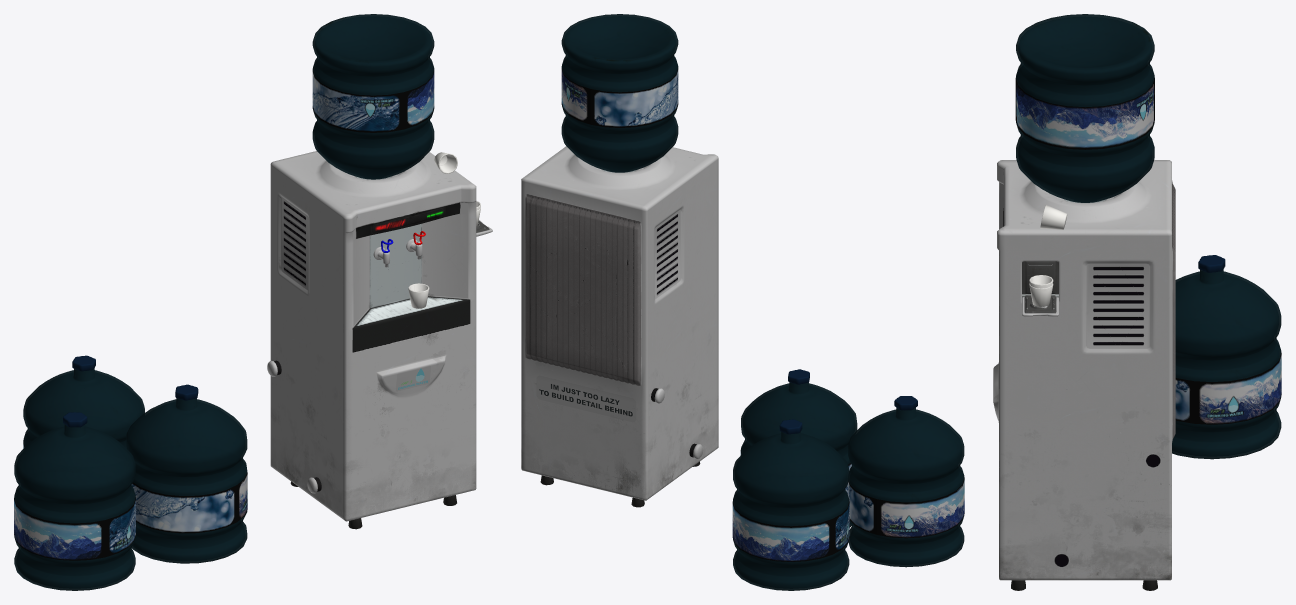
Rendered from 1779769742133-water_dispencer_-_pbr_-_game_ready.glb.
3 renders of one model, left to right at view 1: azimuth 30°, elevation 25°; view 2: azimuth 150°, elevation 25°; view 3: azimuth 270°, elevation 25°, orthographic. The views are drawn at different scales.
Visible parts, largest first — view 1: Object_4, Object_3, Object_2; view 2: Object_4, Object_3, Object_2; view 3: Object_4, Object_3, Object_2.
Boxes of the visible parts, box(x1,y1,x2,y2) form: Object_4: box(267, 151, 492, 529); Object_3: box(14, 14, 434, 590); Object_2: box(14, 70, 434, 560); Object_4: box(521, 146, 718, 507); Object_3: box(561, 14, 964, 590); Object_2: box(561, 68, 964, 561); Object_4: box(993, 160, 1175, 590); Object_3: box(1016, 14, 1281, 459); Object_2: box(1015, 78, 1281, 424).
Bounding box in the file's own units: 1.52 × 1.49 × 0.7499.
Materials: 3 (3 with a texture image).
